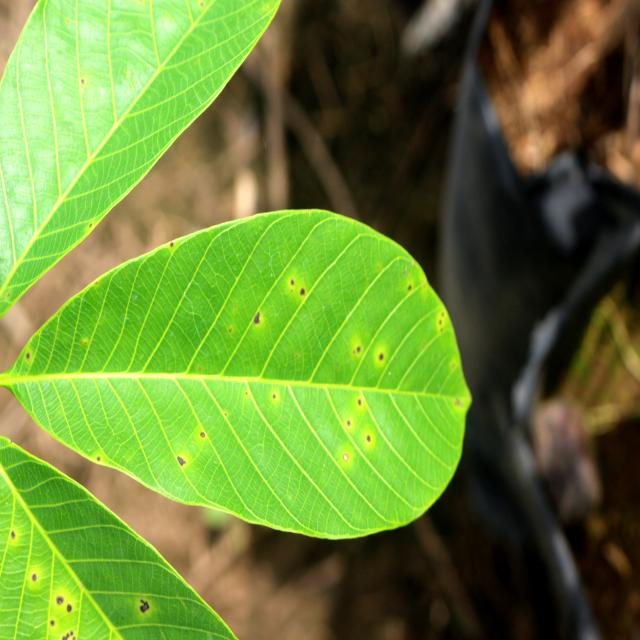Colletotrichum: (343, 454, 348, 461), (200, 432, 205, 438)
